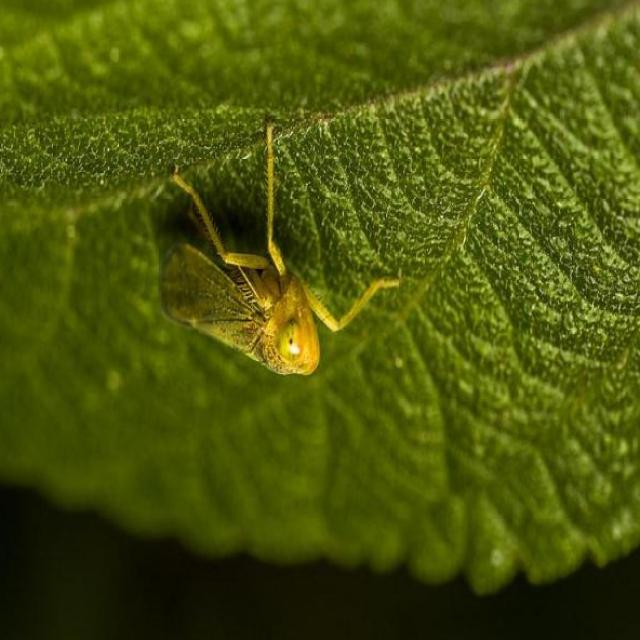green leaf hopper: (162, 125, 401, 375)
